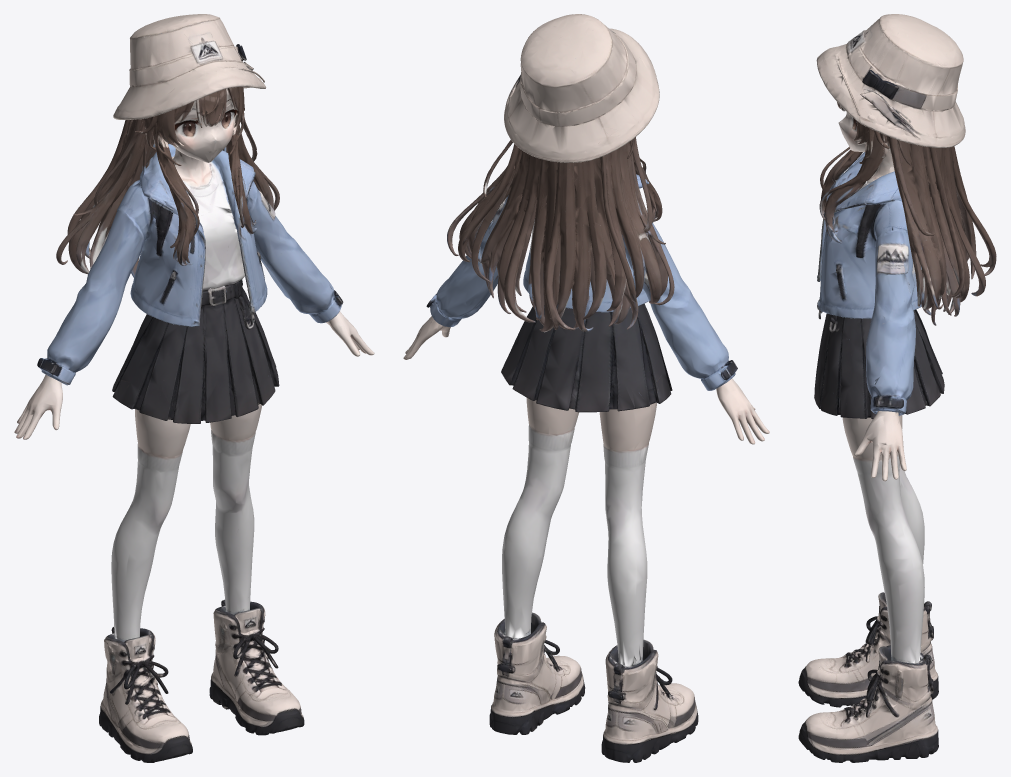
The model's file is xia_zhiyao.glb.
The picture shows the model from 3 angles, left to right: view 1: azimuth 30°, elevation 25°; view 2: azimuth 150°, elevation 25°; view 3: azimuth 270°, elevation 25°; orthographic projection.
Parts seen in each view (by area): view 1: Mesh_0; view 2: Mesh_0; view 3: Mesh_0.
Part boxes in pixels (x1,y1,x2,y2): Mesh_0: (14,14,374,762); Mesh_0: (403,14,769,762); Mesh_0: (798,14,996,762).
Size of the model in its own units: 0.8409 by 1.6 by 0.408.
Materials: 1 (1 with a texture image).
